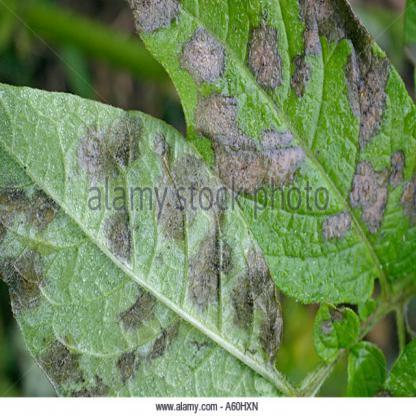Potato leaf late blight: (1, 82, 286, 394), (124, 1, 415, 306)
